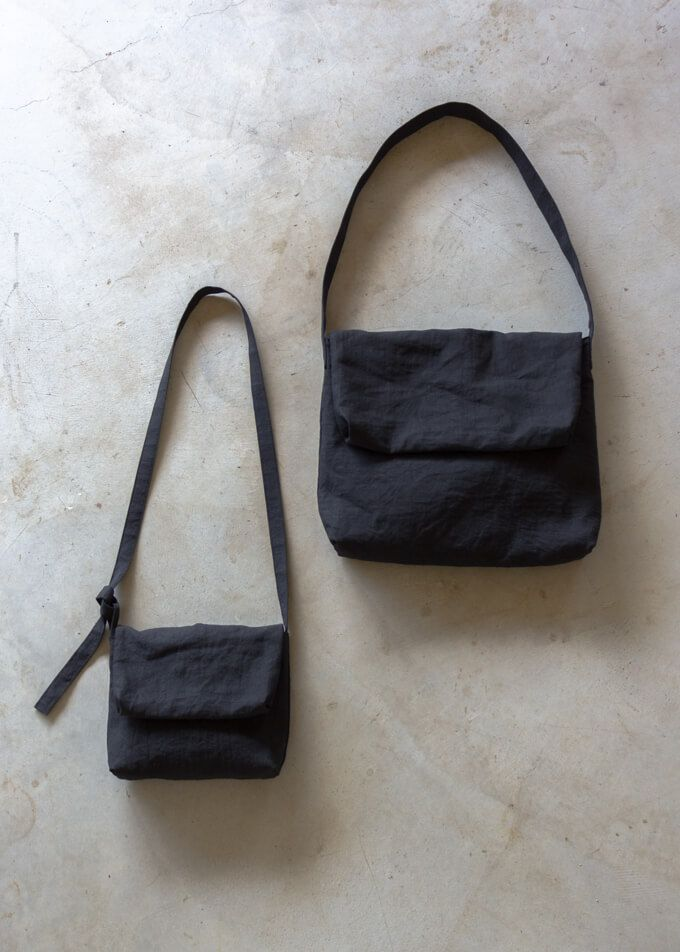nylon: (35, 101, 603, 780)
